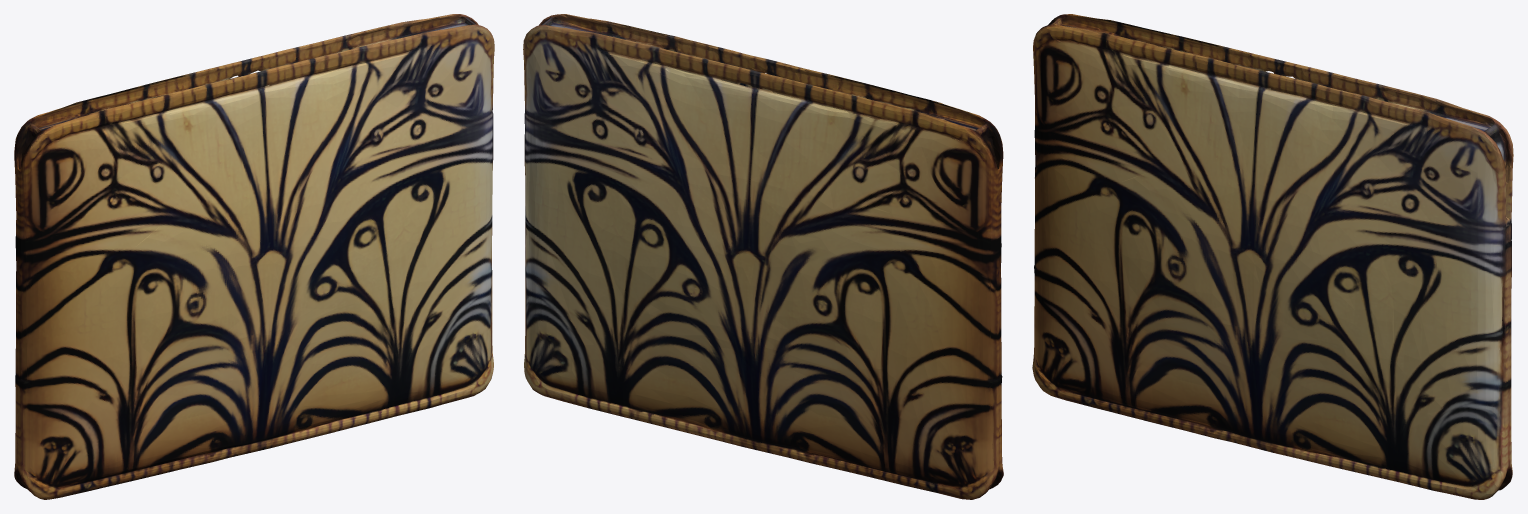
Rendered from cork-wallet-art-deco.jpeg.glb.
3 renders of one model, left to right at view 1: azimuth 30°, elevation 25°; view 2: azimuth 150°, elevation 25°; view 3: azimuth 330°, elevation 25°, orthographic.
Parts seen in each view (by area): view 1: world; view 2: world; view 3: world.
Boxes of the visible parts, x1,y1,x2,y2 form: world: (14, 14, 494, 499); world: (523, 14, 1003, 499); world: (1032, 14, 1513, 499).
Size of the model in its own units: 1 by 0.7686 by 0.145.
1 material, 1 textured.
